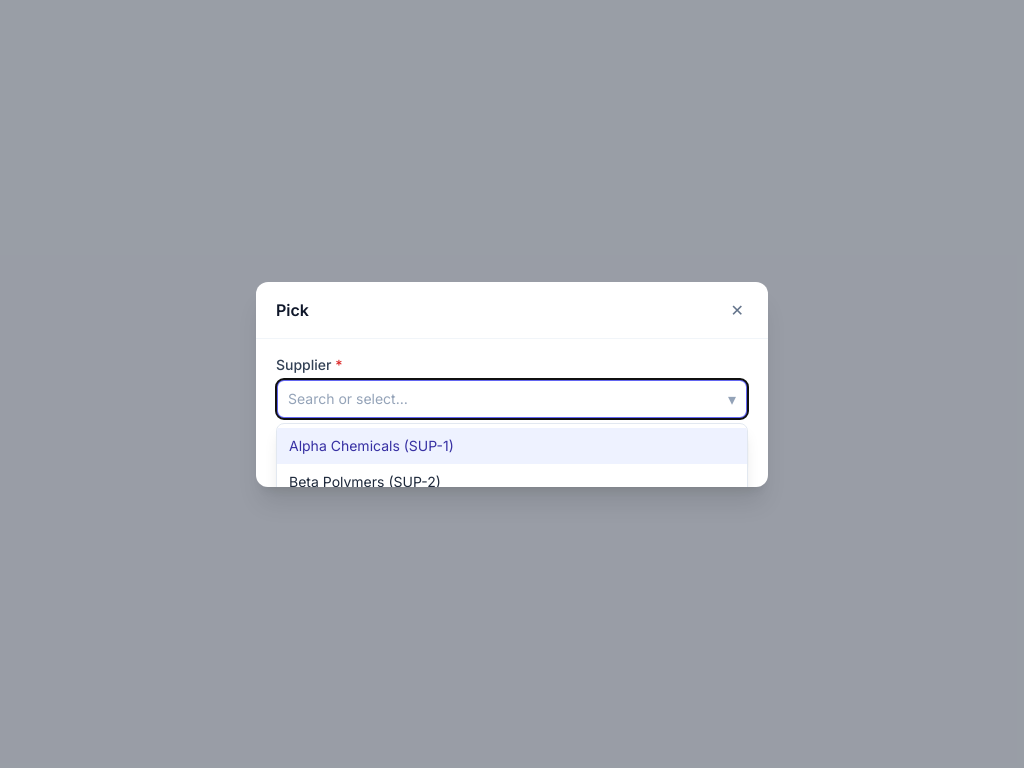
Test: Searchable dropdown › filters by every word typed (label and keywords), picks with the keyboard, and Escape only closes the list
Step 1. Type "alpha met" into the dropdown labelled "Supplier *" → (512, 398), box [276, 378, 748, 418]
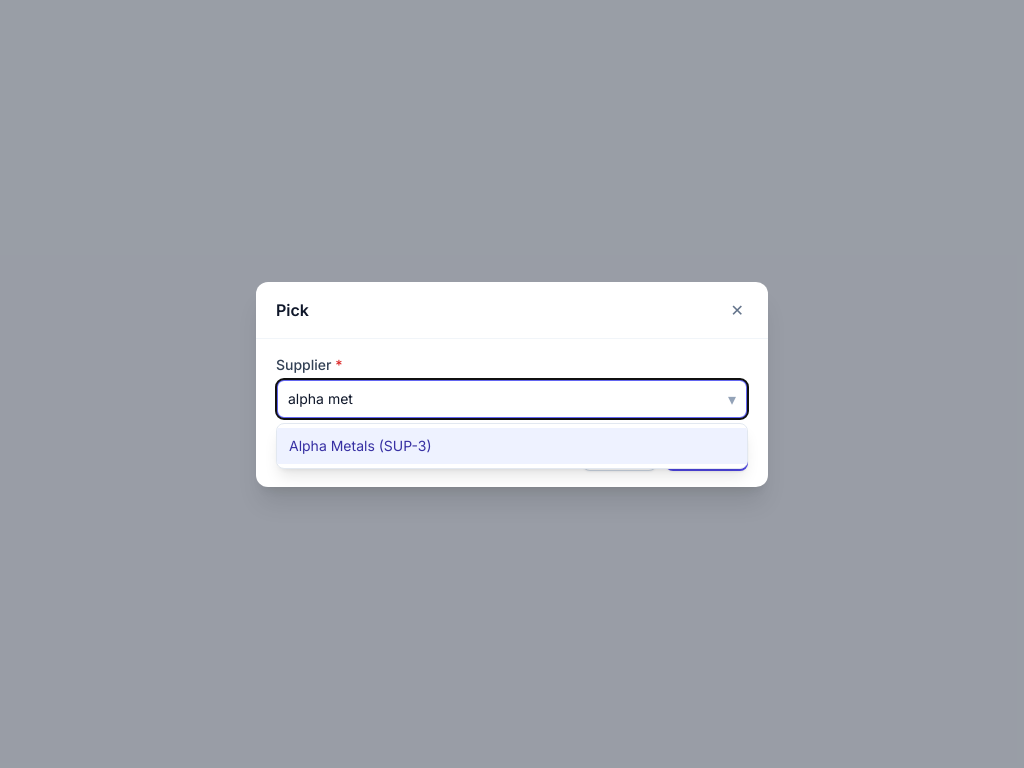
Expected: the options read "Alpha Metals (SUP-3)", in this order, [277, 428, 747, 464]
Step 2. Replace the text in the dropdown labelled "Supplier *" with "27bbb" → (512, 398), box [276, 378, 748, 418]
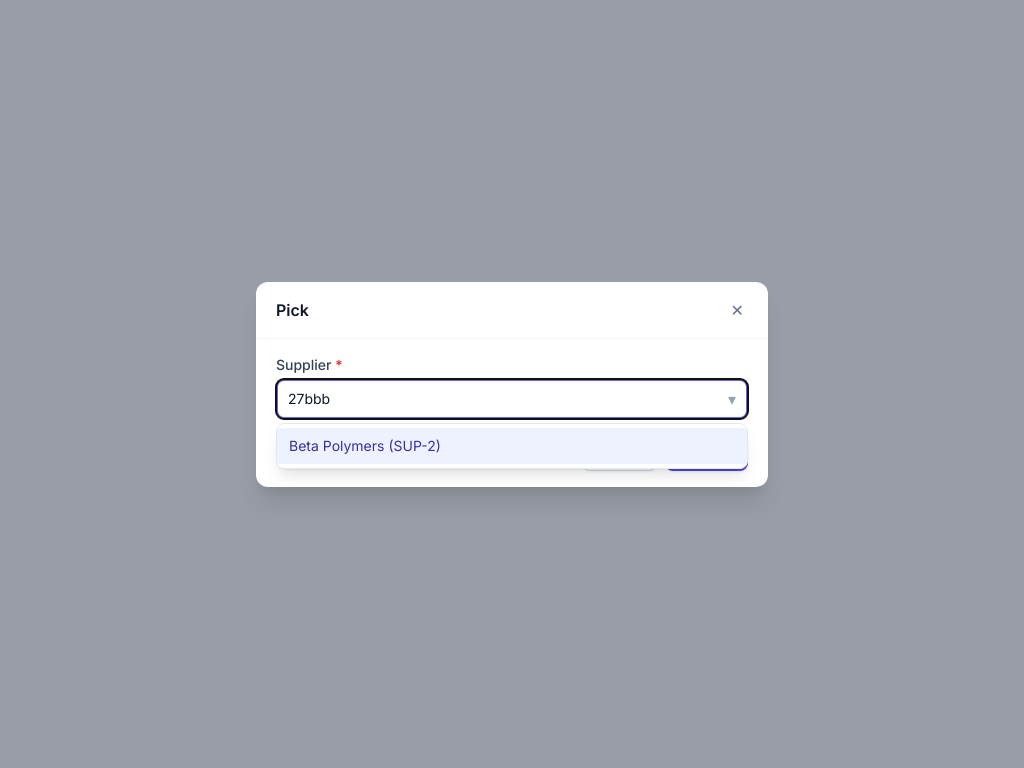
Expected: the options read "Beta Polymers (SUP-2)", in this order, [277, 428, 747, 464]
Step 3. Press Enter
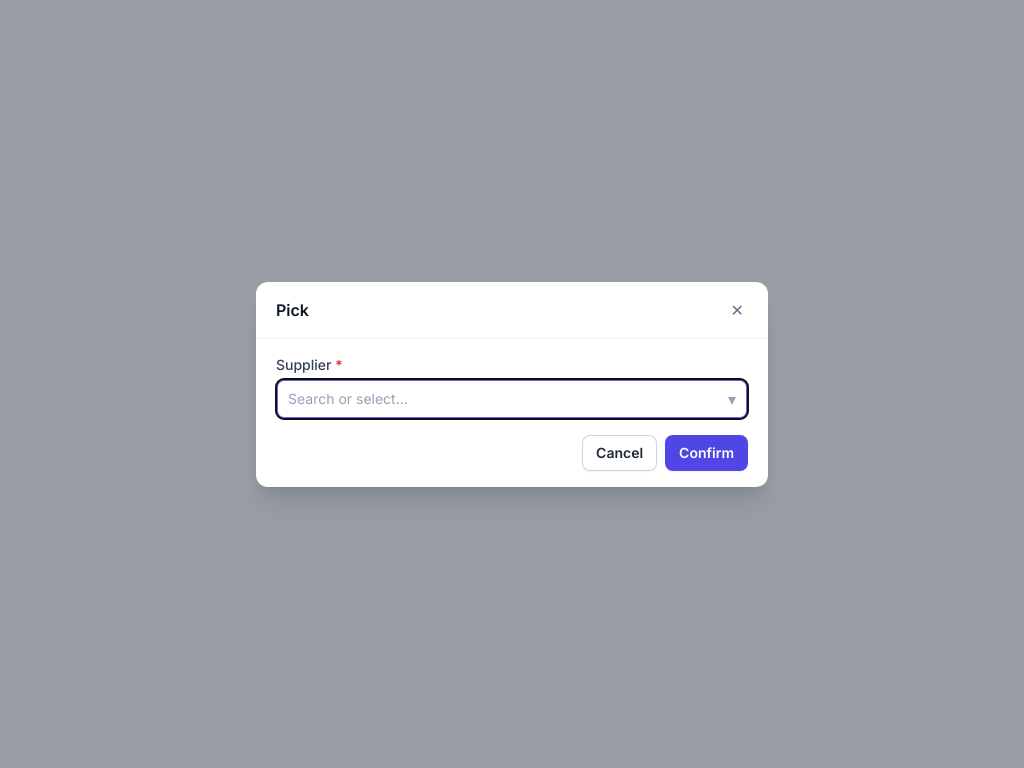
Step 4. Type "zzz" into the dropdown labelled "Supplier *" → (512, 398), box [276, 378, 748, 418]
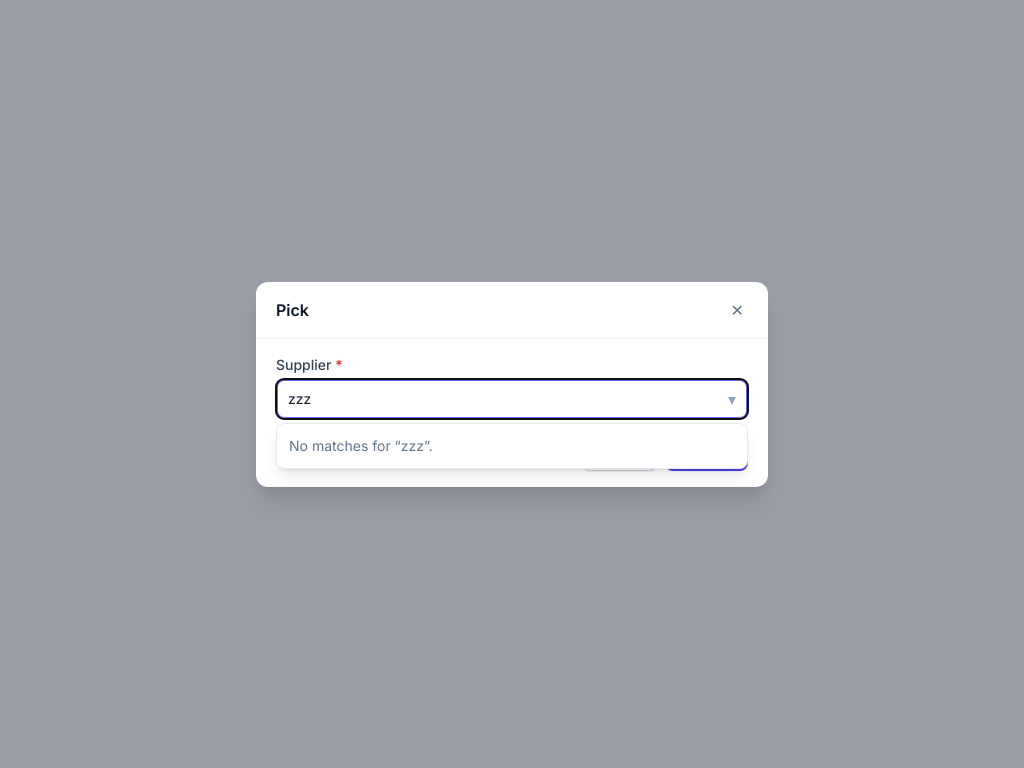
Expected: the list item "No matches for “zzz”." is shown, [289, 436, 433, 454]
Step 5. Press Escape
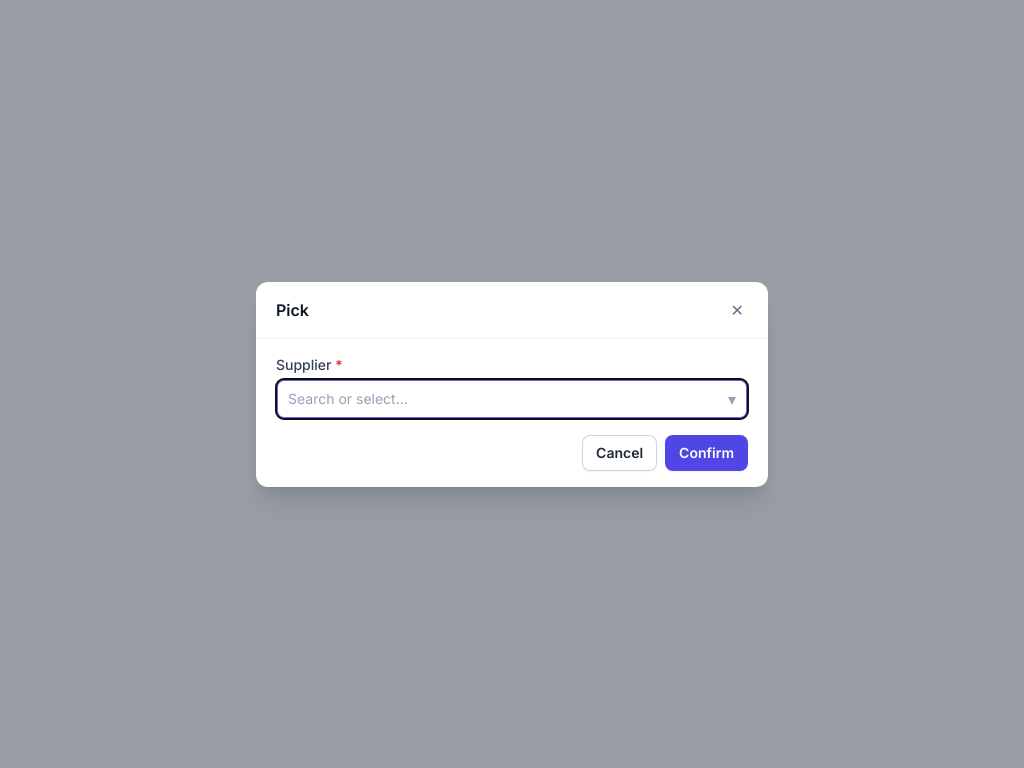
Expected: the list is gone
